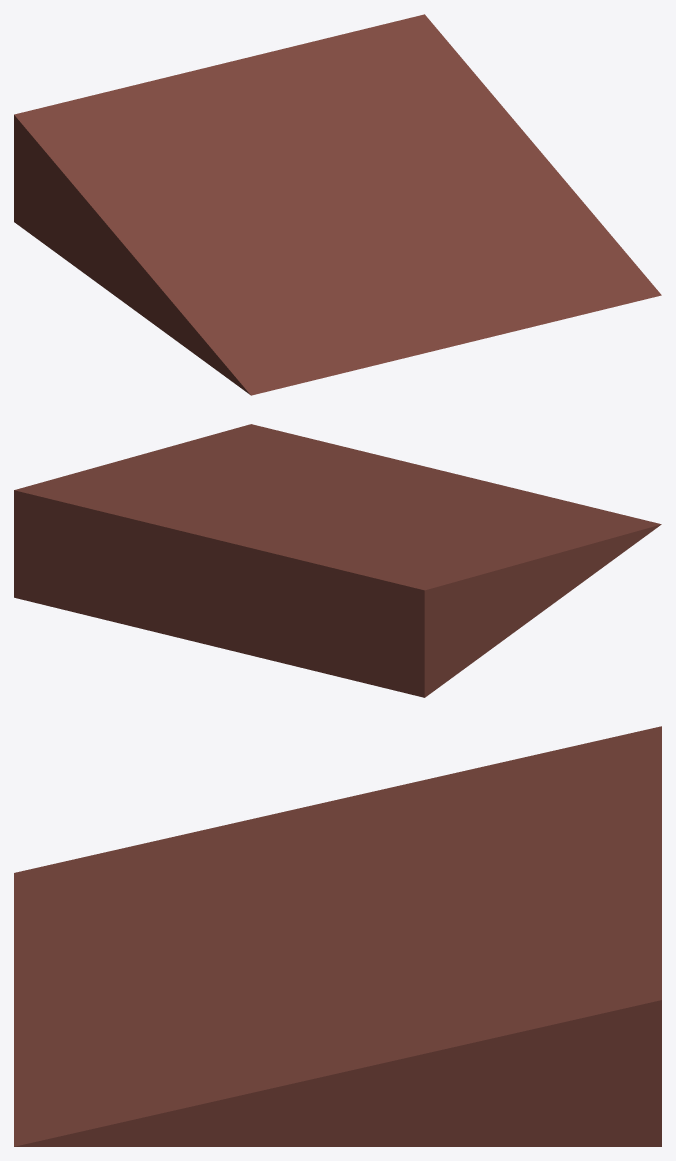
Rendered from Dirt_Large_Slope.glb.
3 views of the same model, one above another, from view 1: azimuth 30°, elevation 25°; view 2: azimuth 150°, elevation 25°; view 3: azimuth 270°, elevation 25° (orthographic). The views are drawn at different scales.
Parts seen in each view (by area): view 1: Dirt Large Slope; view 2: Dirt Large Slope; view 3: Dirt Large Slope.
Part boxes in pixels (bbox=[...]): Dirt Large Slope: bbox=[14, 14, 661, 395]; Dirt Large Slope: bbox=[14, 424, 661, 697]; Dirt Large Slope: bbox=[14, 726, 661, 1146].
Size of the model in its own units: 4 by 1 by 4.
Materials: 1 (1 with a texture image).
